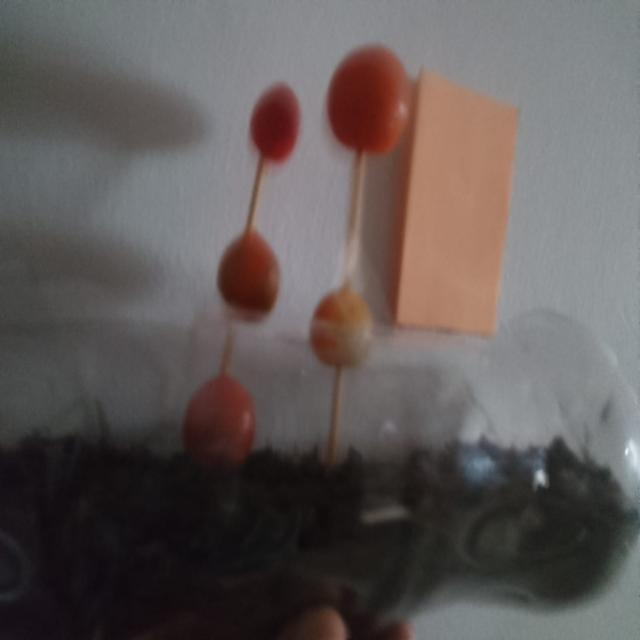card: (393, 70, 518, 334)
fruit_maturation: (310, 285, 372, 367)
fully_grown: (327, 46, 409, 154), (183, 373, 256, 466), (217, 230, 280, 318), (250, 84, 300, 162)
